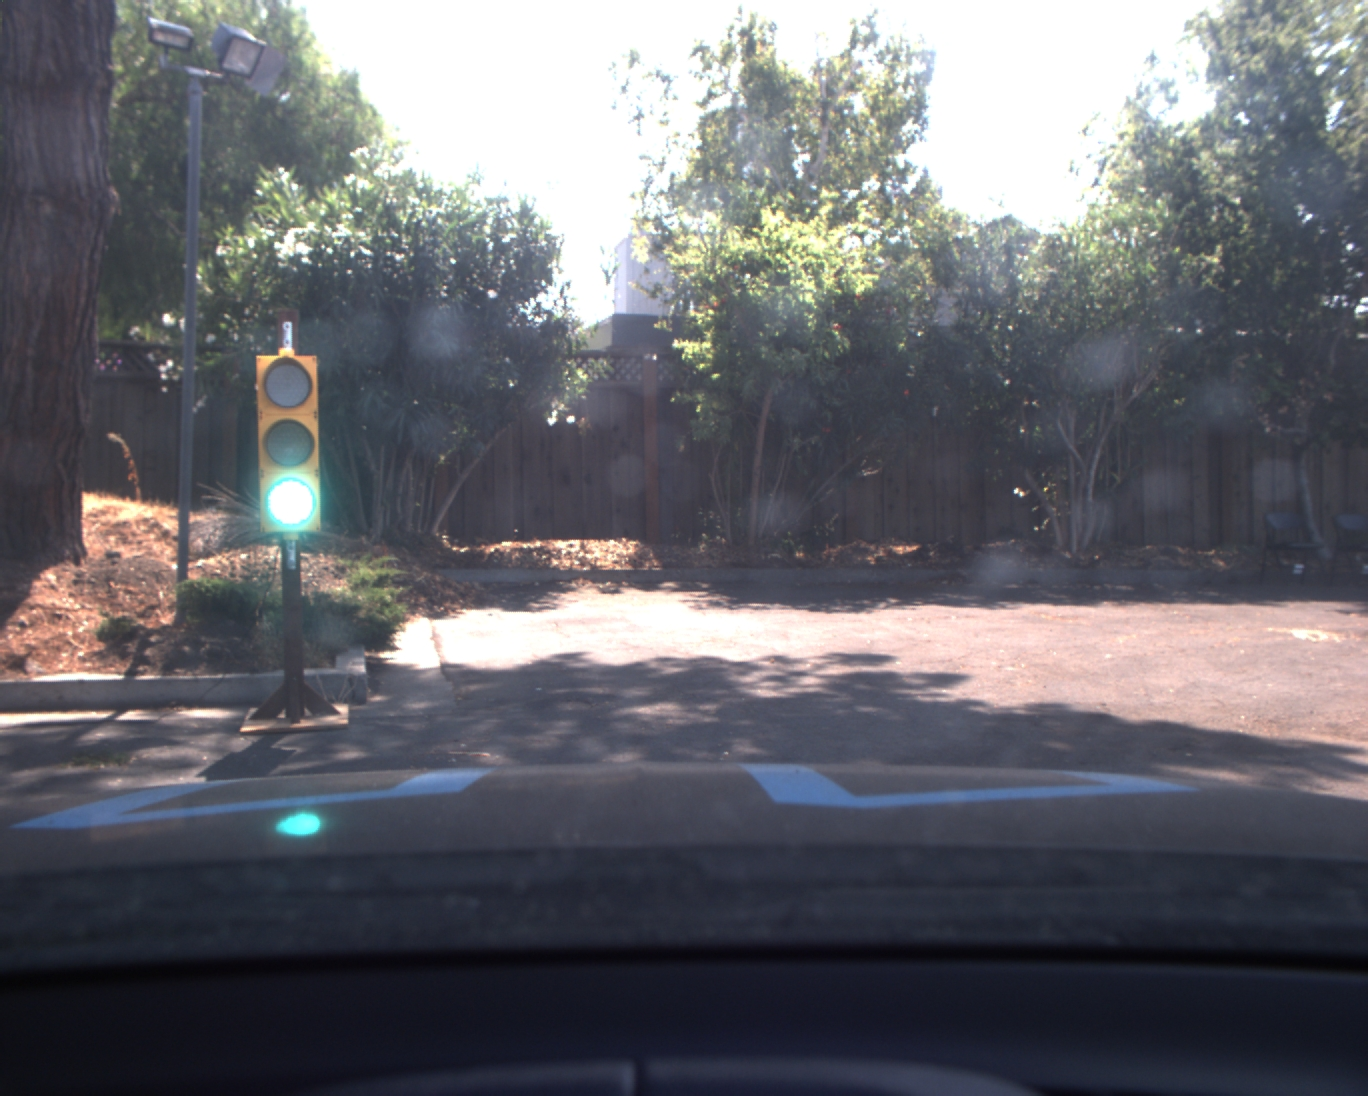green: (255, 349, 329, 538)
